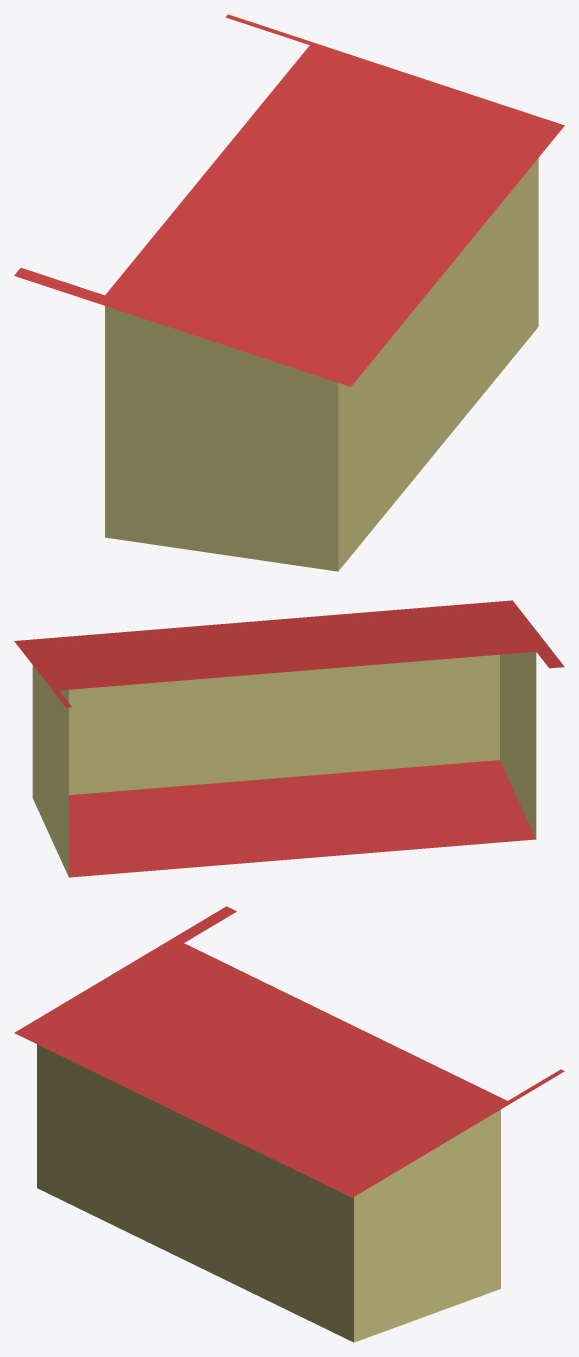
3 renders of one model, top to bottom at view 1: azimuth 30°, elevation 25°; view 2: azimuth 150°, elevation 25°; view 3: azimuth 270°, elevation 25°, orthographic. The views are drawn at different scales.
Size of the model in its own units: 17.69 by 16.96 by 6.9.
